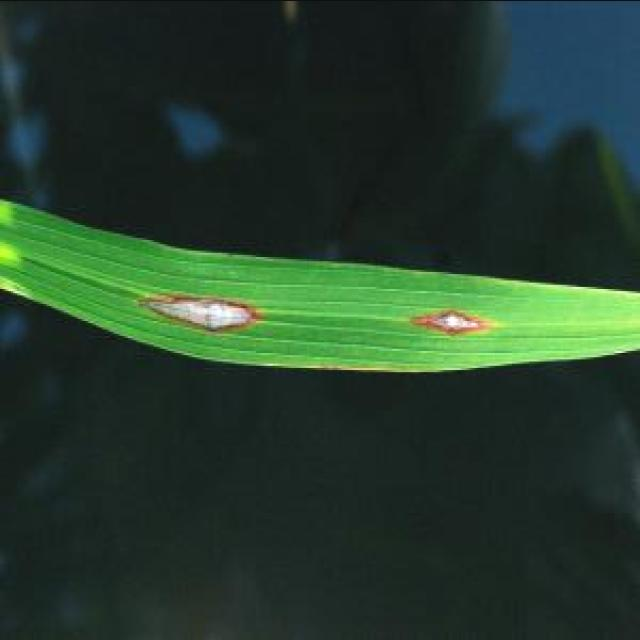Brown_Spot: (127, 286, 267, 336), (397, 300, 492, 344)
